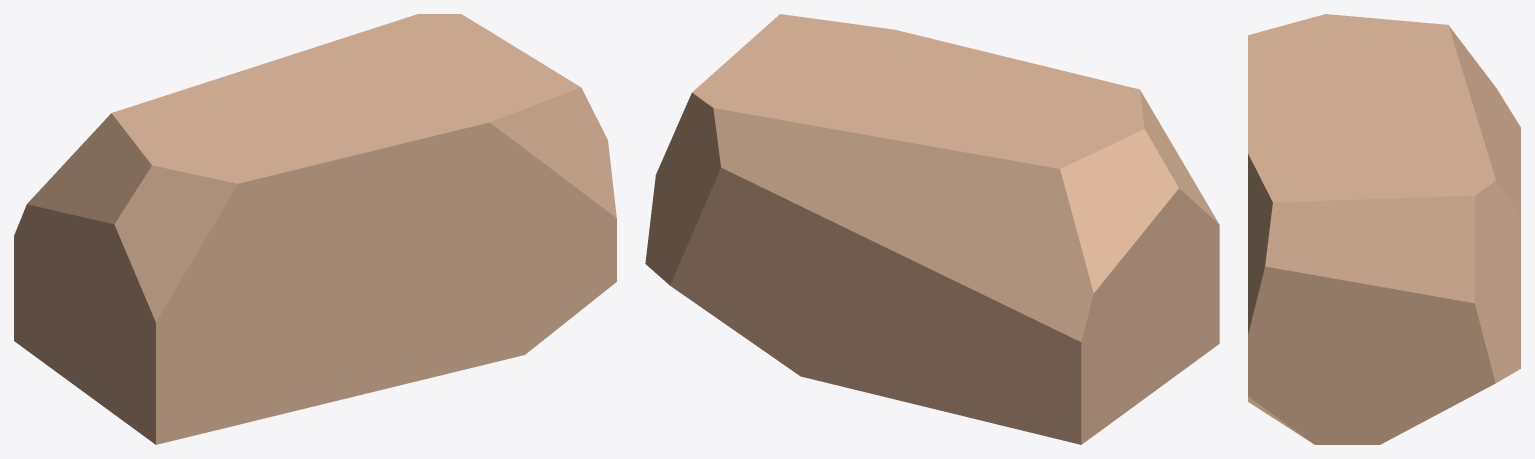
The model's file is Onebrick.fbx.
The picture shows the model from 3 angles, left to right: view 1: azimuth 30°, elevation 25°; view 2: azimuth 150°, elevation 25°; view 3: azimuth 270°, elevation 25°; orthographic projection. The views are drawn at different scales.
Visible parts, largest first — view 1: oneBrick; view 2: oneBrick; view 3: oneBrick.
Boxes of the visible parts, x1=… form: oneBrick: x1=14, y1=14, x2=616, y2=444; oneBrick: x1=645, y1=14, x2=1219, y2=444; oneBrick: x1=1248, y1=14, x2=1520, y2=444.
Bounding box in the file's own units: 1.2 × 0.6 × 0.64.
